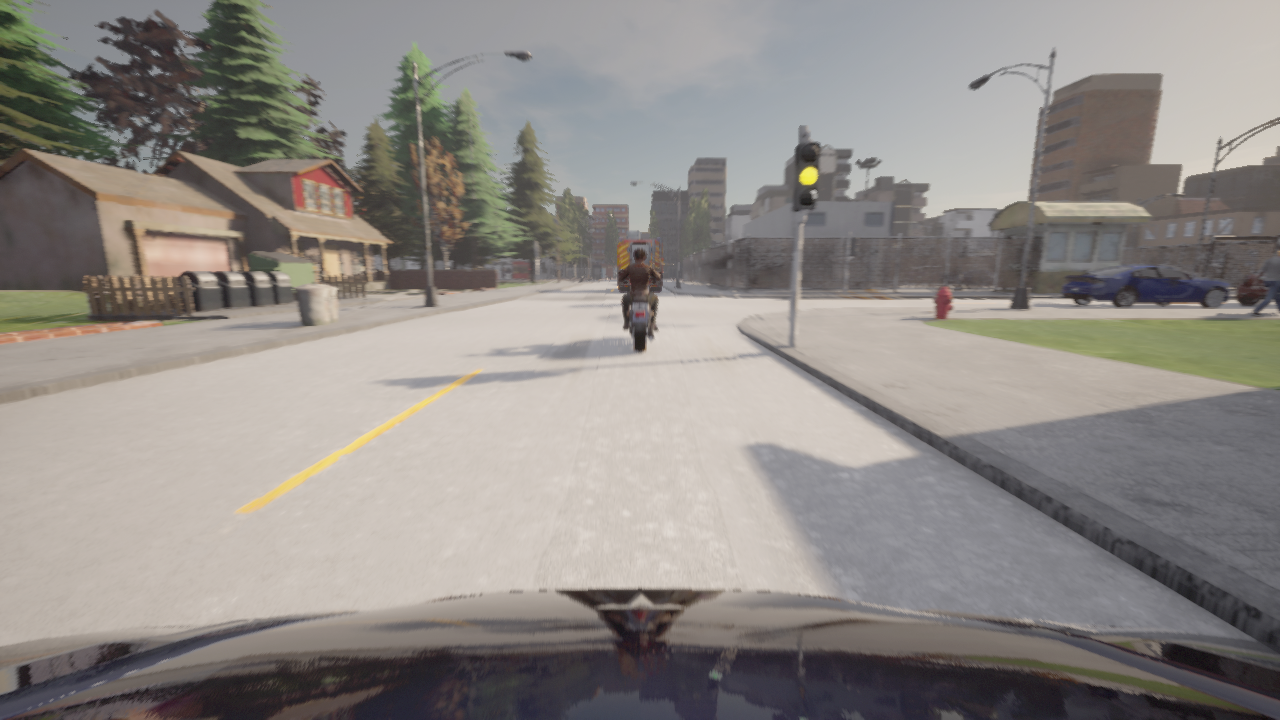cyclist: (0, 588, 1279, 719), (1061, 264, 1229, 306), (619, 270, 661, 352), (618, 231, 662, 291), (1236, 269, 1268, 304), (903, 266, 939, 281), (951, 271, 985, 283), (914, 272, 954, 282), (972, 267, 995, 284), (928, 271, 953, 282), (988, 275, 994, 284)
pedestrian: (1251, 249, 1279, 315)
